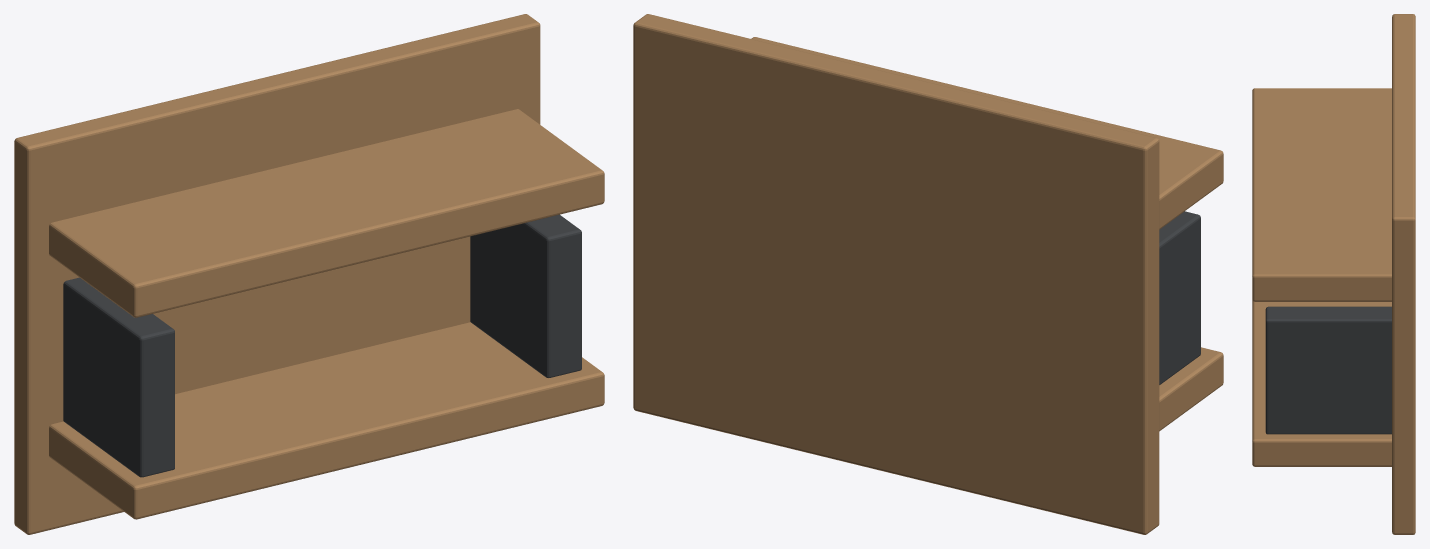
The model's file is minimal-wall-shelf-01.glb.
The picture shows the model from 3 angles, left to right: view 1: azimuth 30°, elevation 25°; view 2: azimuth 150°, elevation 25°; view 3: azimuth 270°, elevation 25°; orthographic projection. The views are drawn at different scales.
Visible parts, largest first — view 1: minimal-wall-shelf-01; view 2: minimal-wall-shelf-01; view 3: minimal-wall-shelf-01.
Boxes of the visible parts, bbox=[...] form: minimal-wall-shelf-01: bbox=[14, 14, 604, 534]; minimal-wall-shelf-01: bbox=[633, 14, 1223, 534]; minimal-wall-shelf-01: bbox=[1252, 14, 1415, 534].
Size of the model in its own units: 0.72 by 0.52 by 0.2425.
